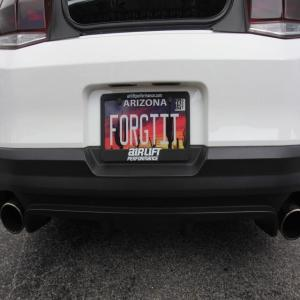Plate: (102, 92, 190, 164)
